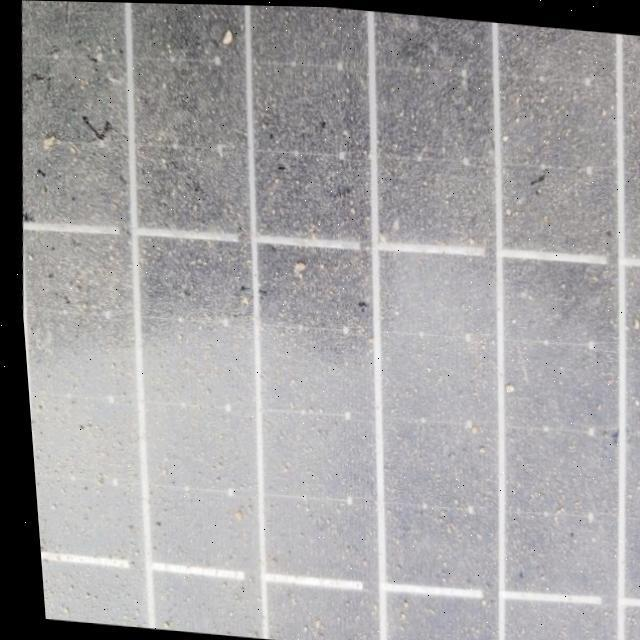Surface Contaminant: (41, 1, 640, 640)
